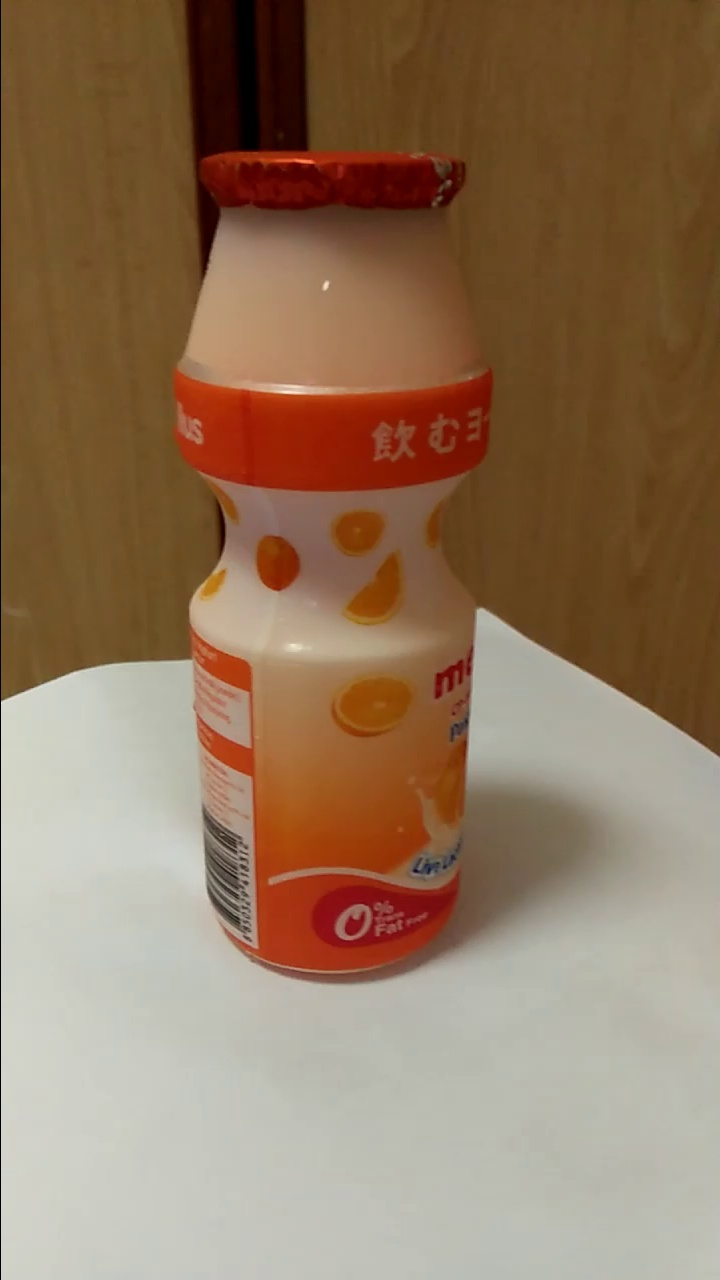milk: (186, 149, 488, 984)
